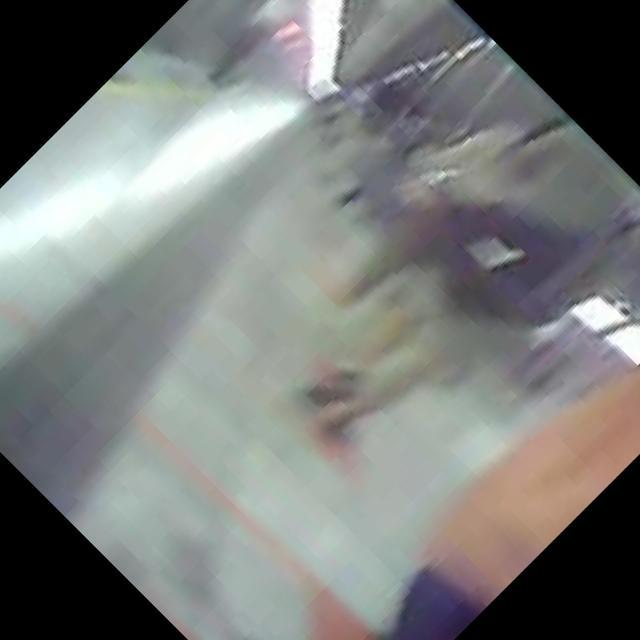person: (245, 245, 640, 640), (299, 128, 640, 507), (316, 74, 586, 344)
